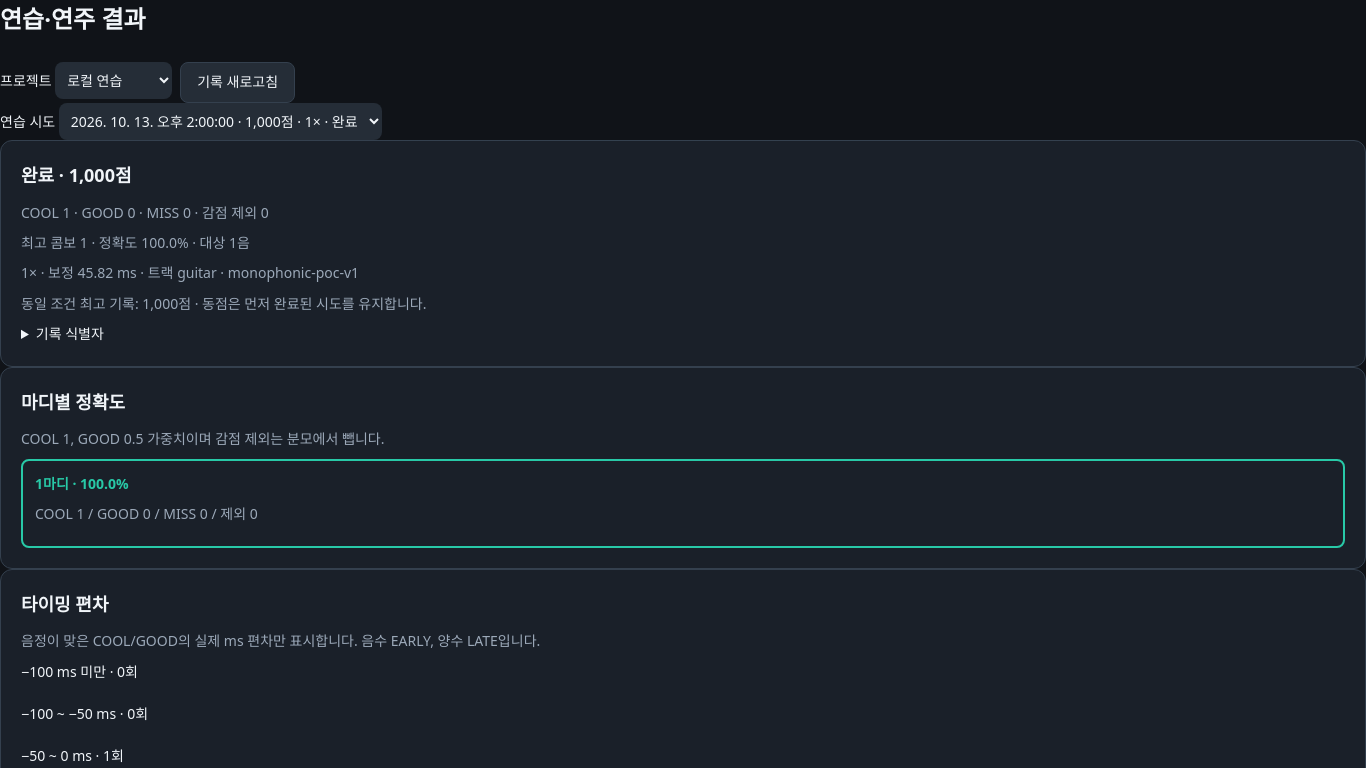
Test: 프로젝트 변경의 첫 화면부터 이전 시도 요약과 차트를 숨긴다
Check: the text "1마디 · 100.0%" is shown, box top-left (35, 474), bottom-right (129, 493)
Select "다른 프로젝트" in the dropdown named "결과 프로젝트" at x=114, y=81, box top-left (55, 62), bottom-right (172, 99)
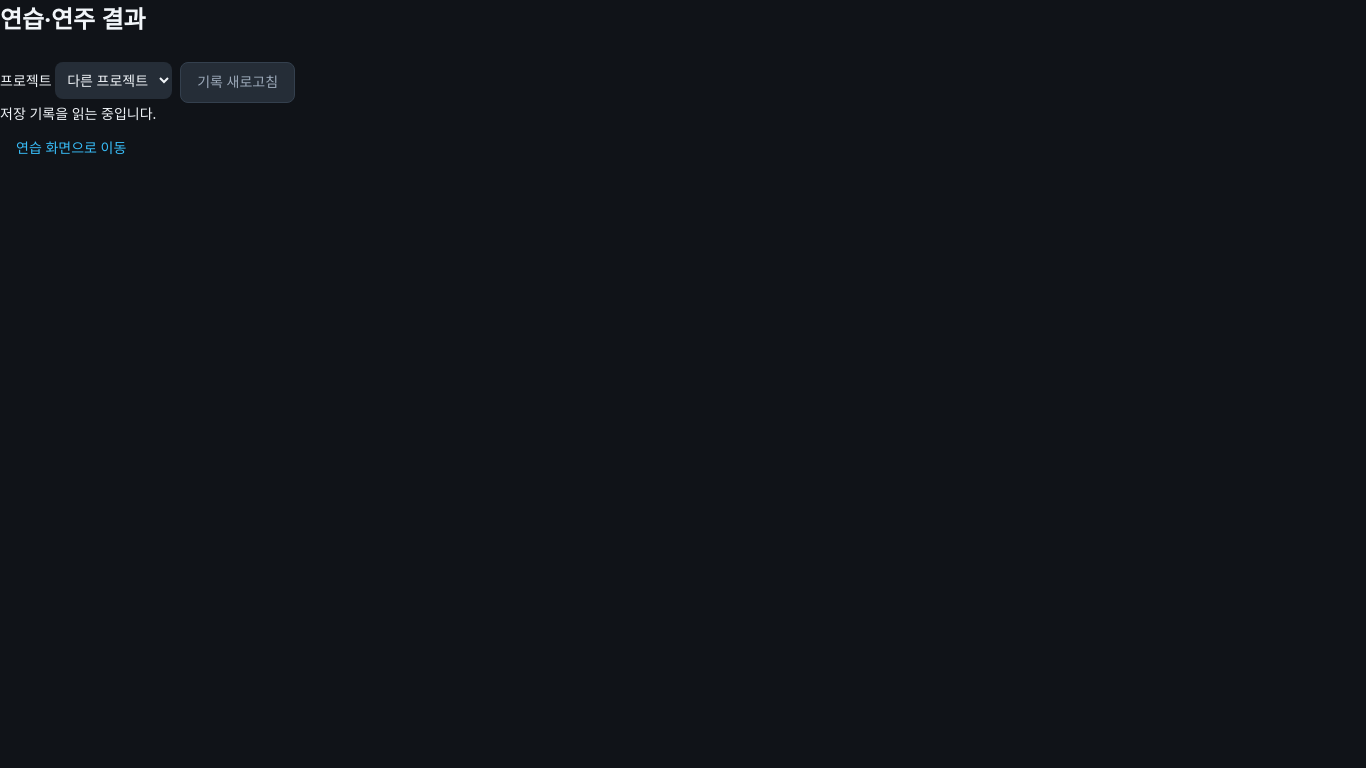
Check: the text "저장 기록을 읽는 중입니다." is shown, box top-left (0, 104), bottom-right (156, 123)
